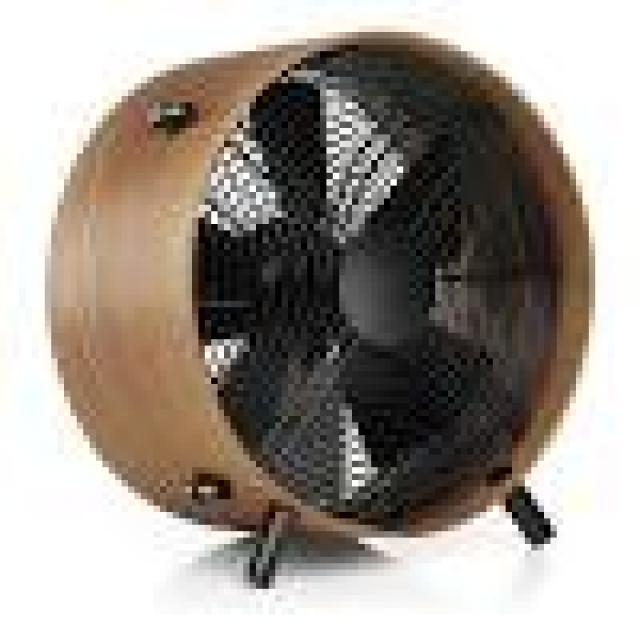fan: (40, 22, 618, 616)
